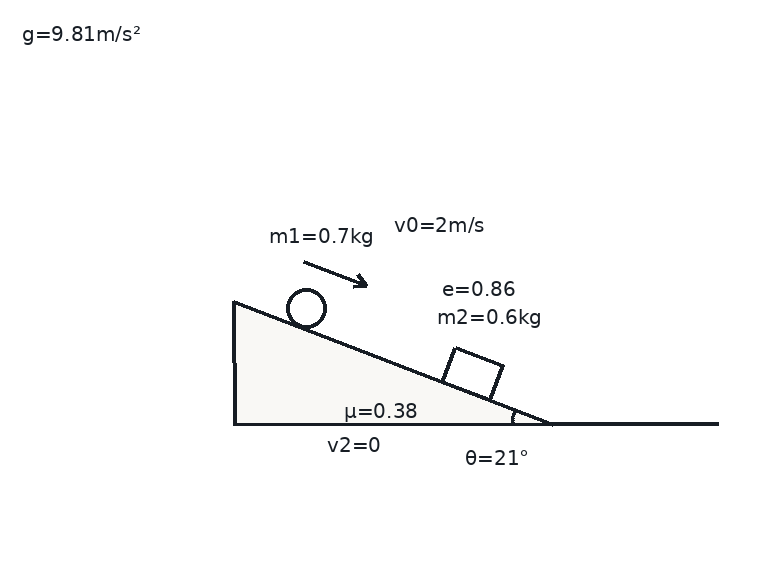ball: (284, 286, 328, 330)
block: (440, 345, 505, 402)
ramp: (232, 300, 554, 426)
